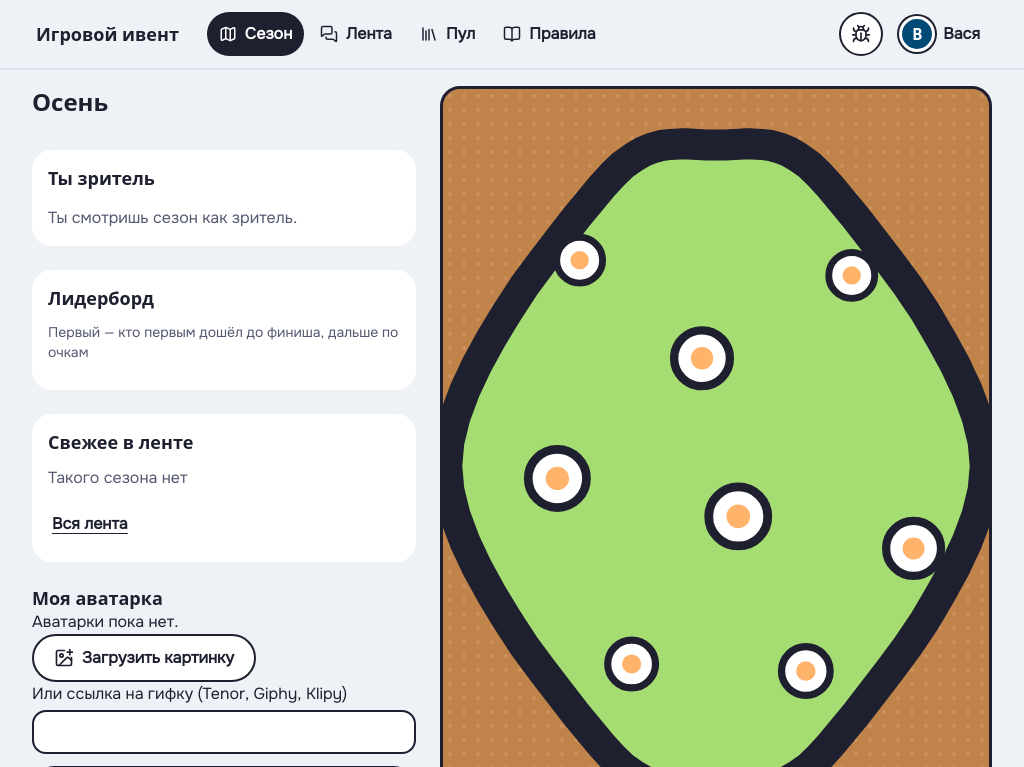
Test: The admin pages › do not open for a player: the address shows the game
Step 1. Click the button with test id "user-menu" → (944, 34), box x1=895 y1=12 x2=992 y2=56
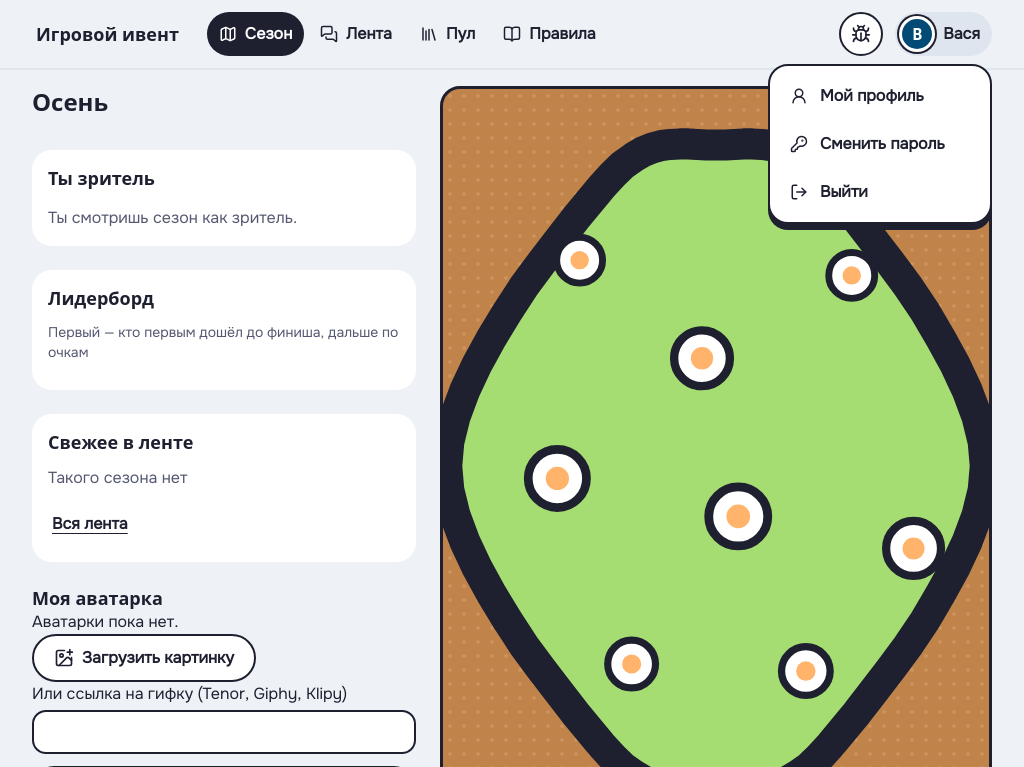
Expected: the menu item with test id "my-profile" is shown, x1=790 y1=85 x2=924 y2=106
